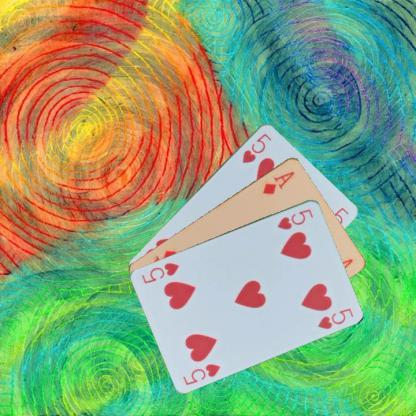5h: (239, 130, 273, 165), (180, 360, 222, 386), (274, 206, 315, 230)
Ad: (260, 168, 296, 195)
